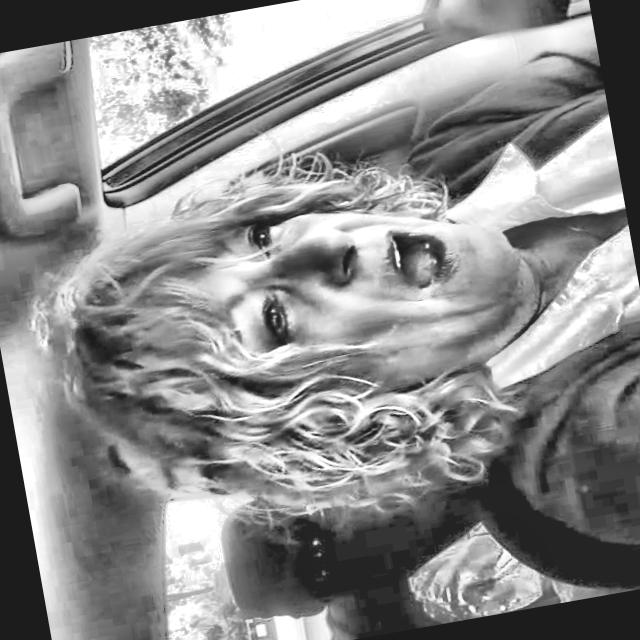open_eyes: (238, 289, 308, 354), (230, 207, 296, 269)
open_mouth: (361, 215, 463, 301)
